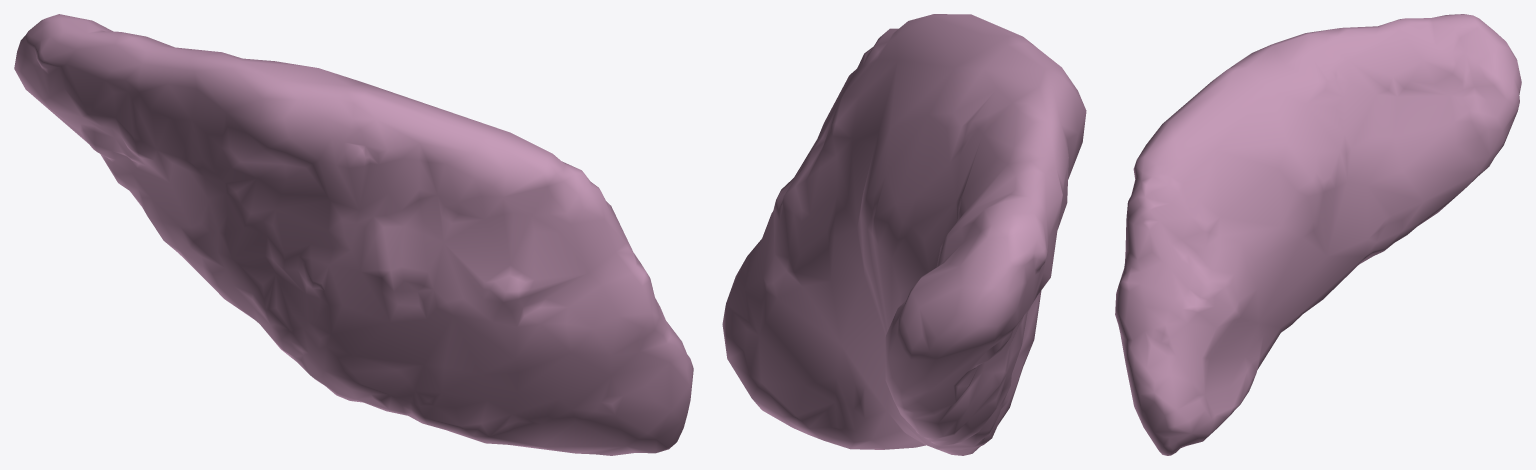
3 views of the same model, side by side, from view 1: azimuth 30°, elevation 25°; view 2: azimuth 150°, elevation 25°; view 3: azimuth 270°, elevation 25° (orthographic). The views are drawn at different scales.
Parts seen in each view (by area): view 1: 右侧泪腺; view 2: 右侧泪腺; view 3: 右侧泪腺.
Boxes of the visible parts, bbox=[...] form: 右侧泪腺: bbox=[14, 14, 693, 455]; 右侧泪腺: bbox=[722, 14, 1086, 455]; 右侧泪腺: bbox=[1115, 14, 1521, 455].
Bounding box in the file's own units: 0.0265 × 0.0222 × 0.0271.
